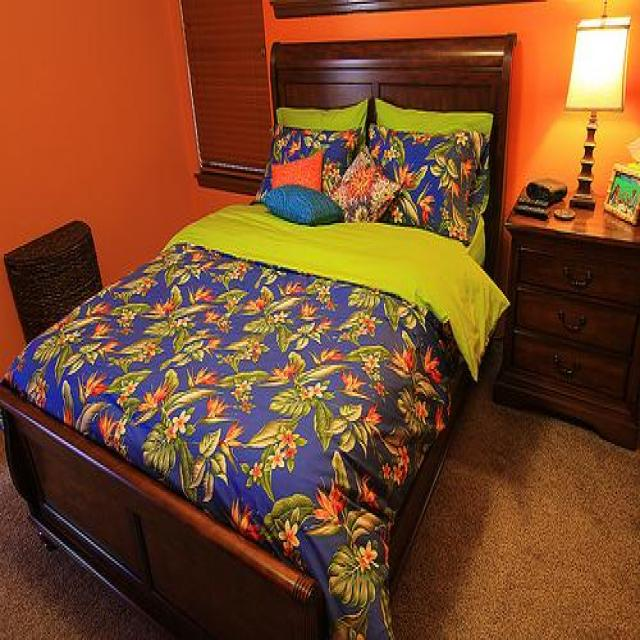bed: (2, 29, 513, 640)
